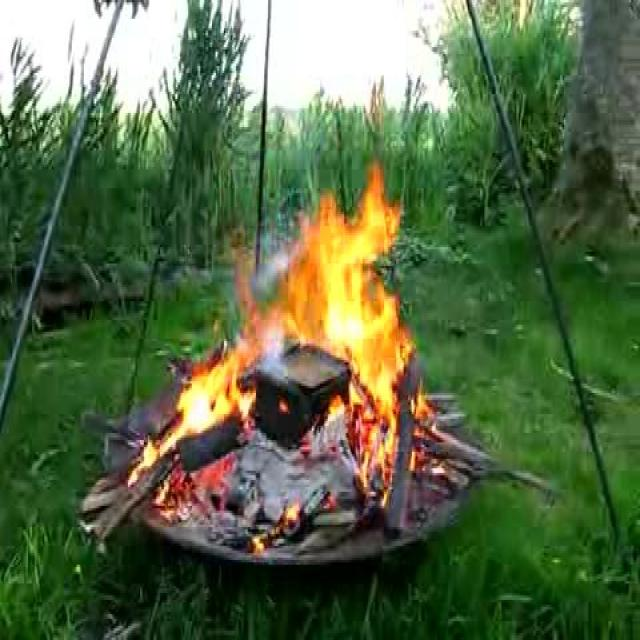fire: (297, 197, 396, 416), (176, 354, 250, 430)
